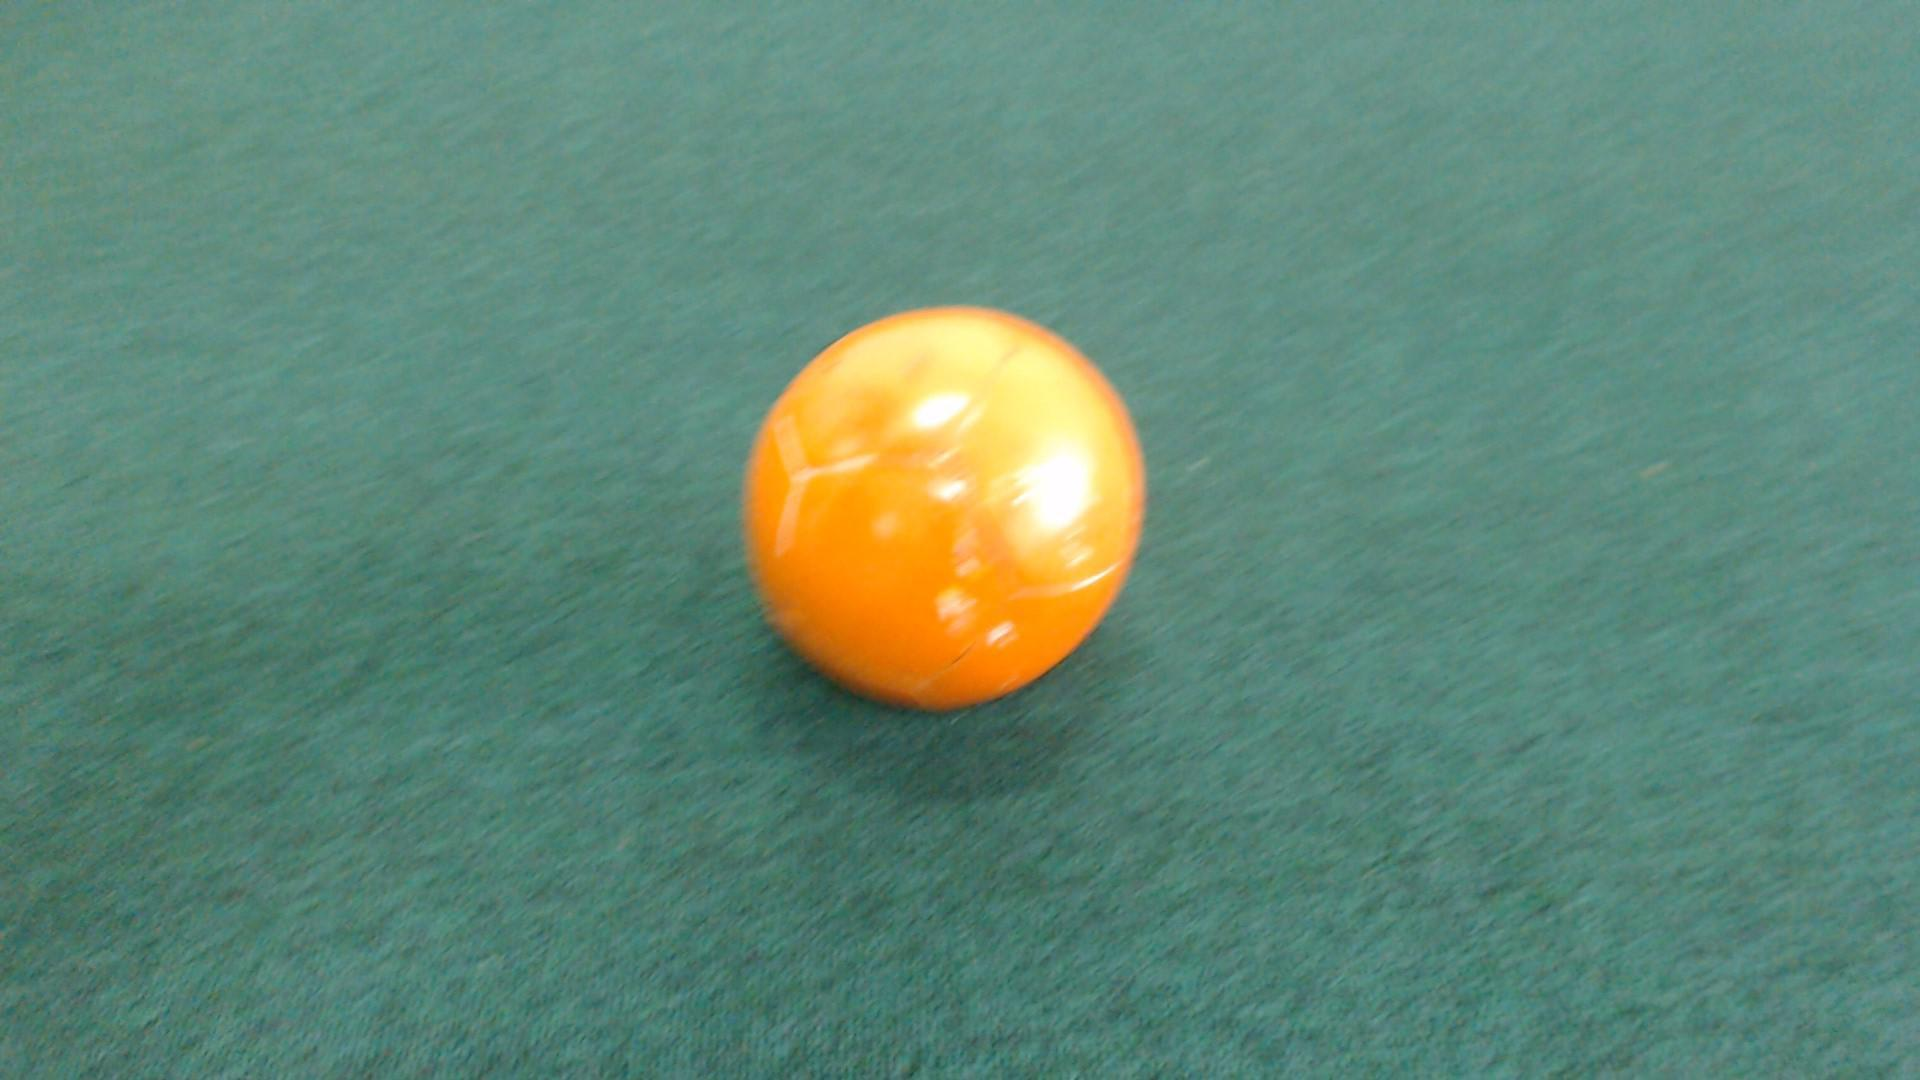bola: (695, 280, 1179, 733)
